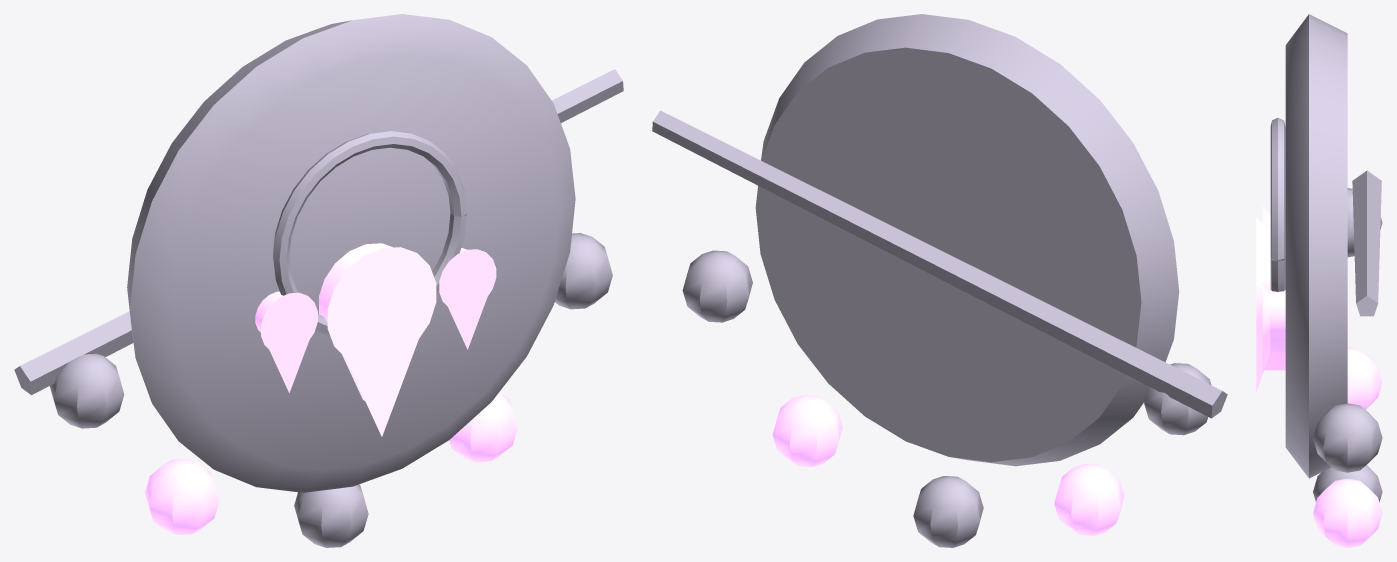
File: boss_wailing_mistress_accessory_4.glb
The picture shows the model from 3 angles, left to right: view 1: azimuth 30°, elevation 25°; view 2: azimuth 150°, elevation 25°; view 3: azimuth 270°, elevation 25°; orthographic projection. The views are drawn at different scales.
Parts seen in each view (by area): view 1: boss_wailing_mistress_accessory_4; view 2: boss_wailing_mistress_accessory_4; view 3: boss_wailing_mistress_accessory_4.
Boxes of the visible parts, x1,y1,x2,y2 form: boss_wailing_mistress_accessory_4: (14,14,623,547); boss_wailing_mistress_accessory_4: (652,14,1227,547); boss_wailing_mistress_accessory_4: (1256,14,1382,547).
Size of the model in its own units: 0.1616 by 0.139 by 0.0326.
